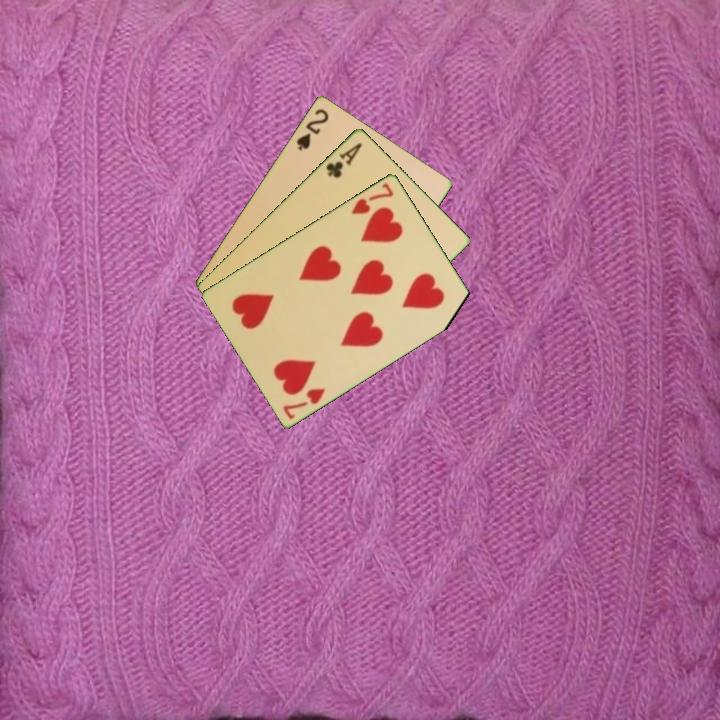2s: (293, 105, 332, 153)
7h: (347, 179, 397, 217), (279, 384, 328, 422)
Ac: (322, 138, 365, 181)
